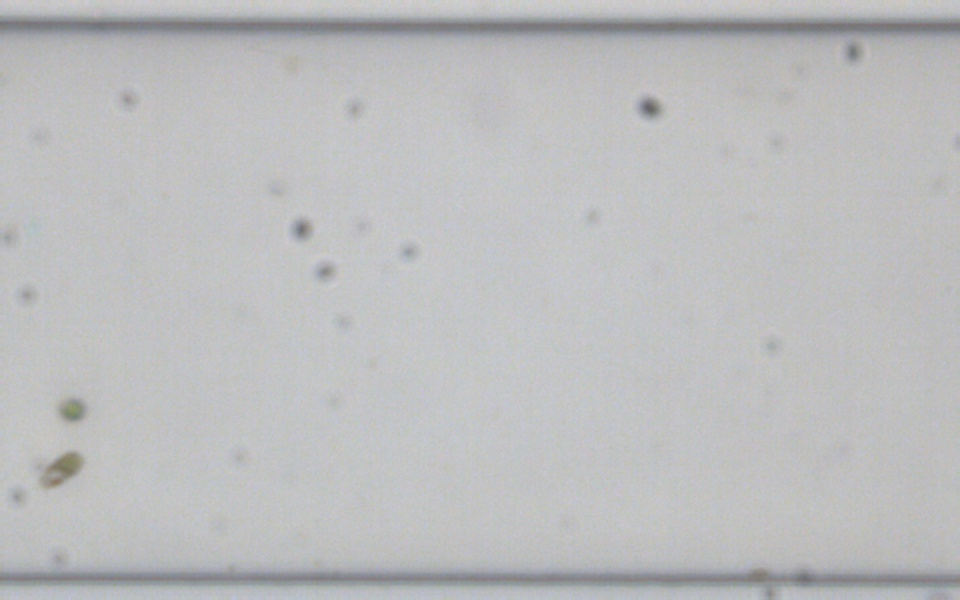Chlorella: (59, 397, 86, 421)
Dunaliella salina: (39, 447, 86, 491)
